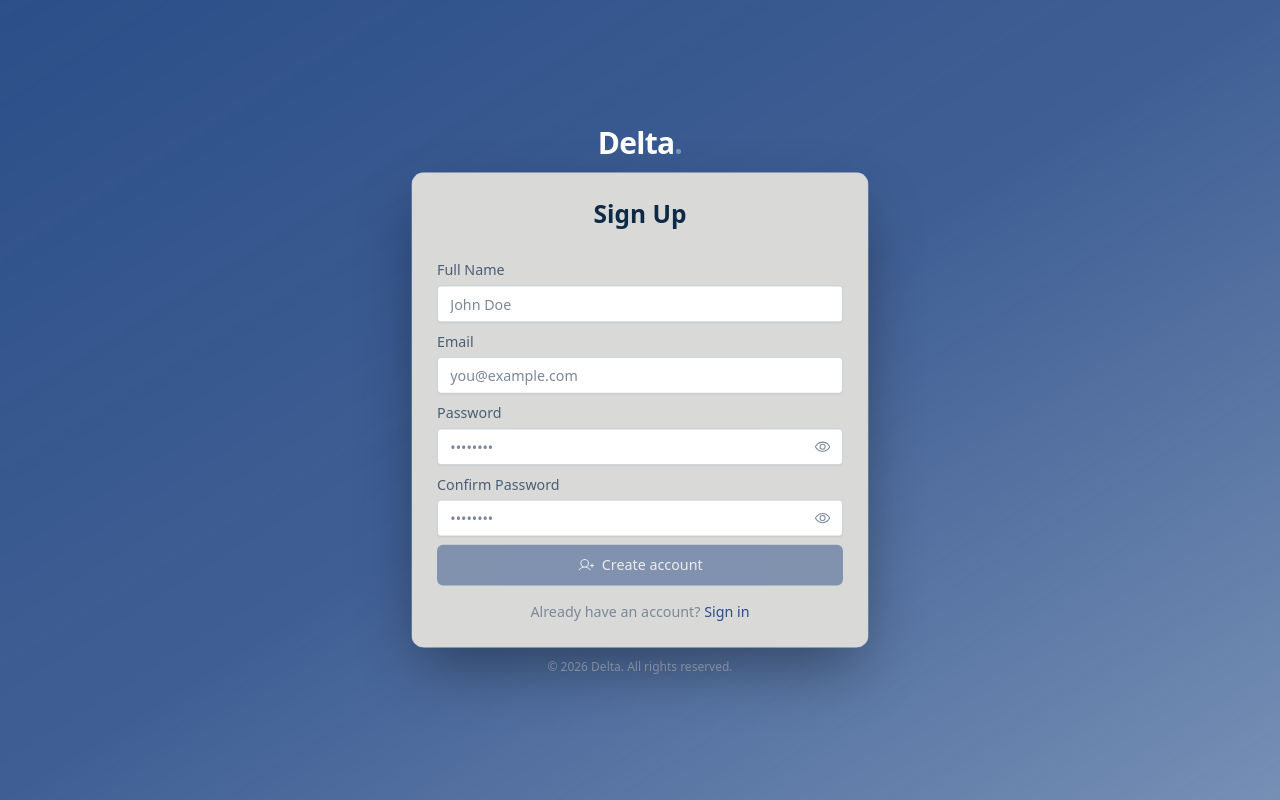
Test: Signup Page › shows password requirements when password is entered
The image size is (1280, 800).
Type "short" into the password field labelled "Password" at (640, 447), box 437,428 -> 843,465
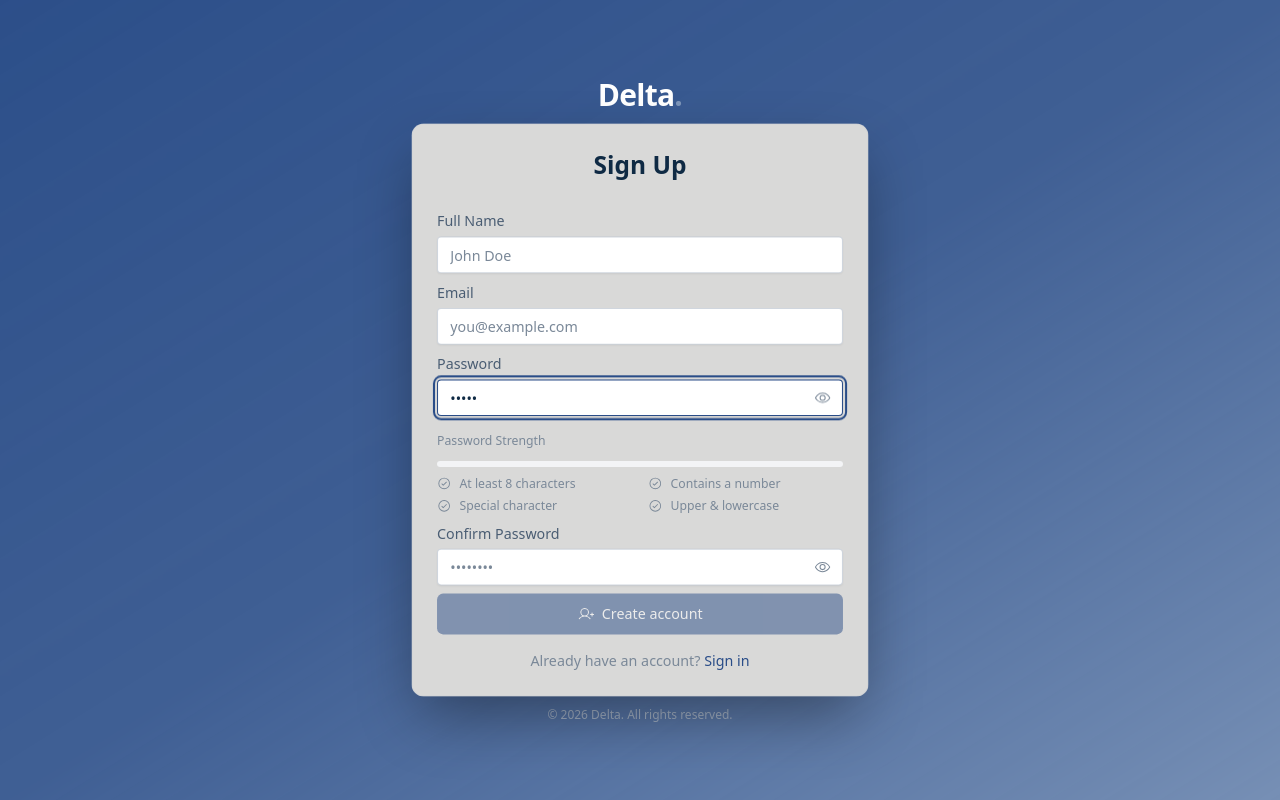
Check: the text "At least 8 characters" is shown, box 460,475 -> 576,492
